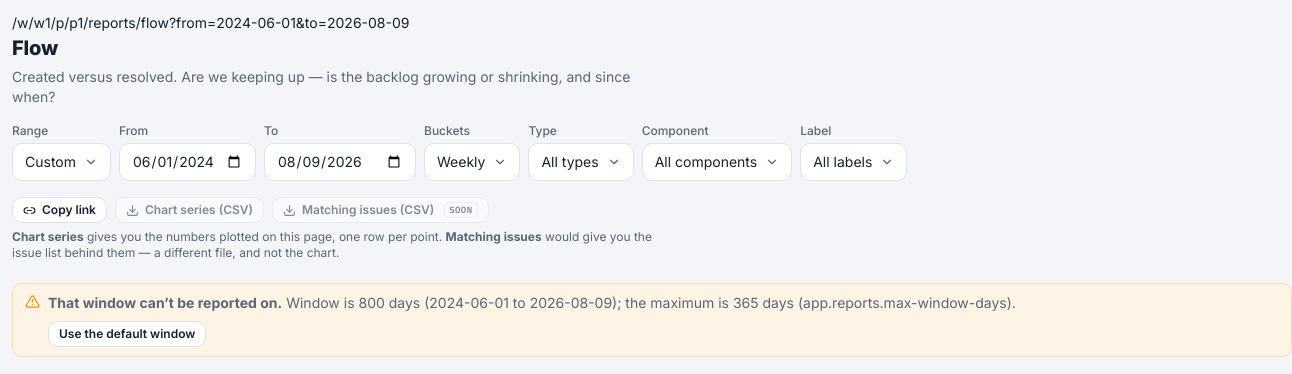
Test case: FlowReportPage — a refused window is a real message › renders the server 400 verbatim, cap and all, with a way out
This screenshot has width=1292, height=374.
Expected: the element that starts with "That window can’t be reported on." shows "the maximum is 365 days (app.reports.max-window-days)", [286, 294, 1016, 311]
Expected: the element that starts with "That window can’t be reported on." shows "Window is 800 days", [286, 294, 1016, 311]
Step 1. Click the button "Use the default window" → x=127, y=334, box [48, 321, 206, 347]
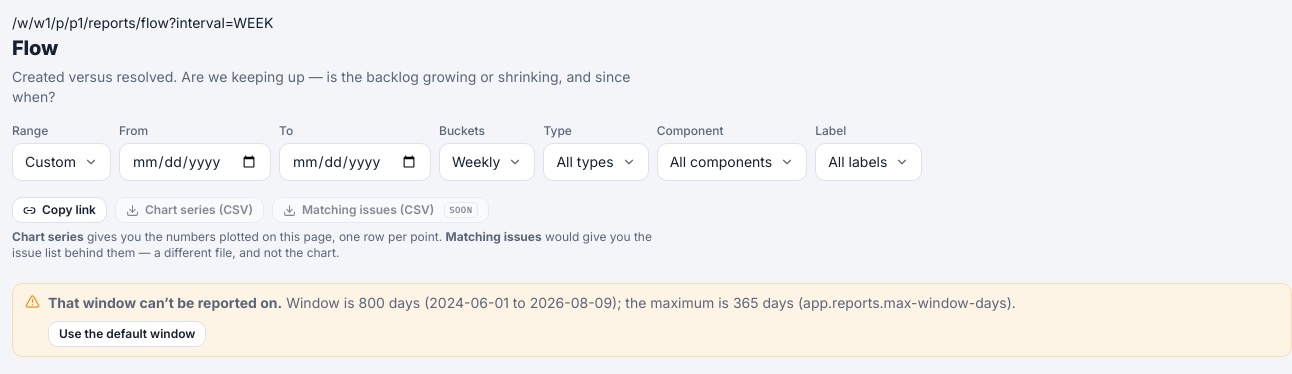
Now the text with test id "loc" no longer shows "from=", box [12, 14, 273, 31]
Now the text with test id "loc" no longer shows "to=", box [12, 14, 273, 31]
